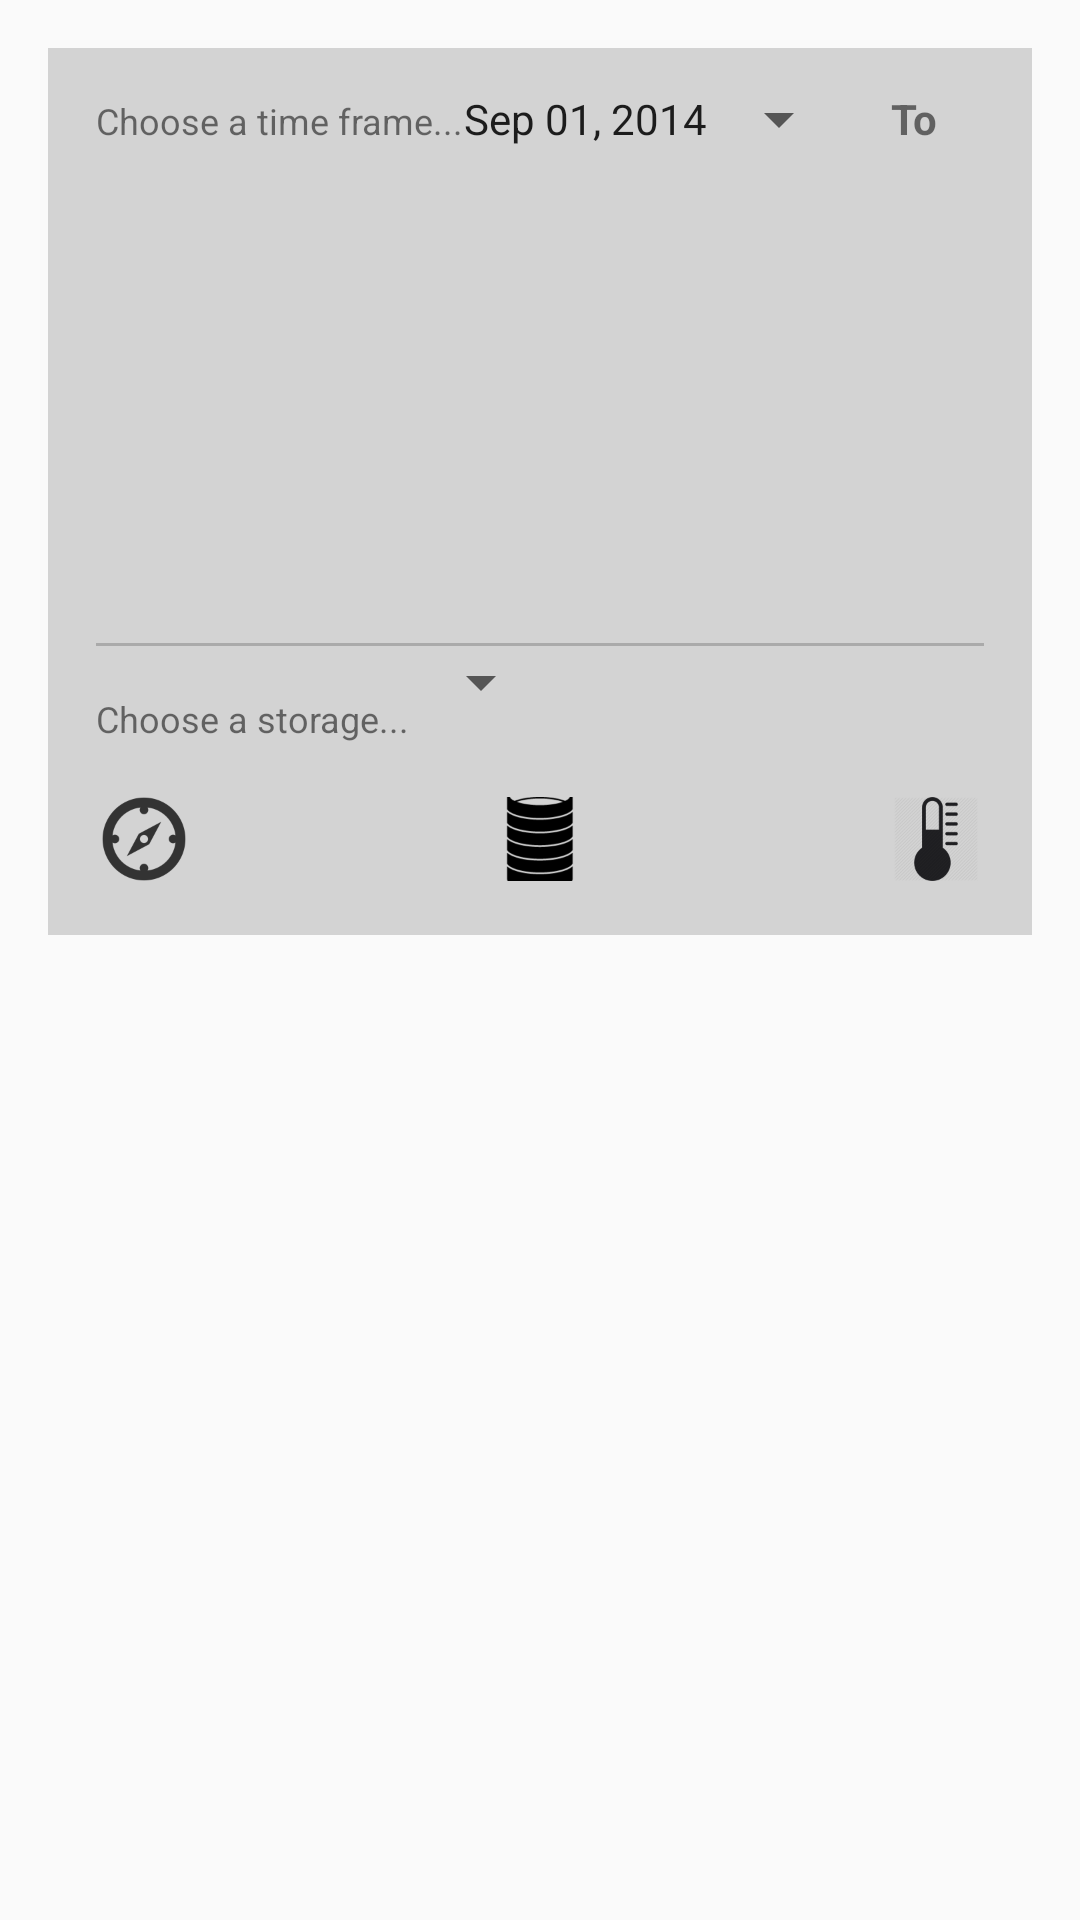

Named icons in this screenshot (1080×1920) and their bounding boxes, box=[x1, y1, x2, y2]:
compass: box=[102, 797, 186, 881]
tank: box=[507, 797, 573, 881]
